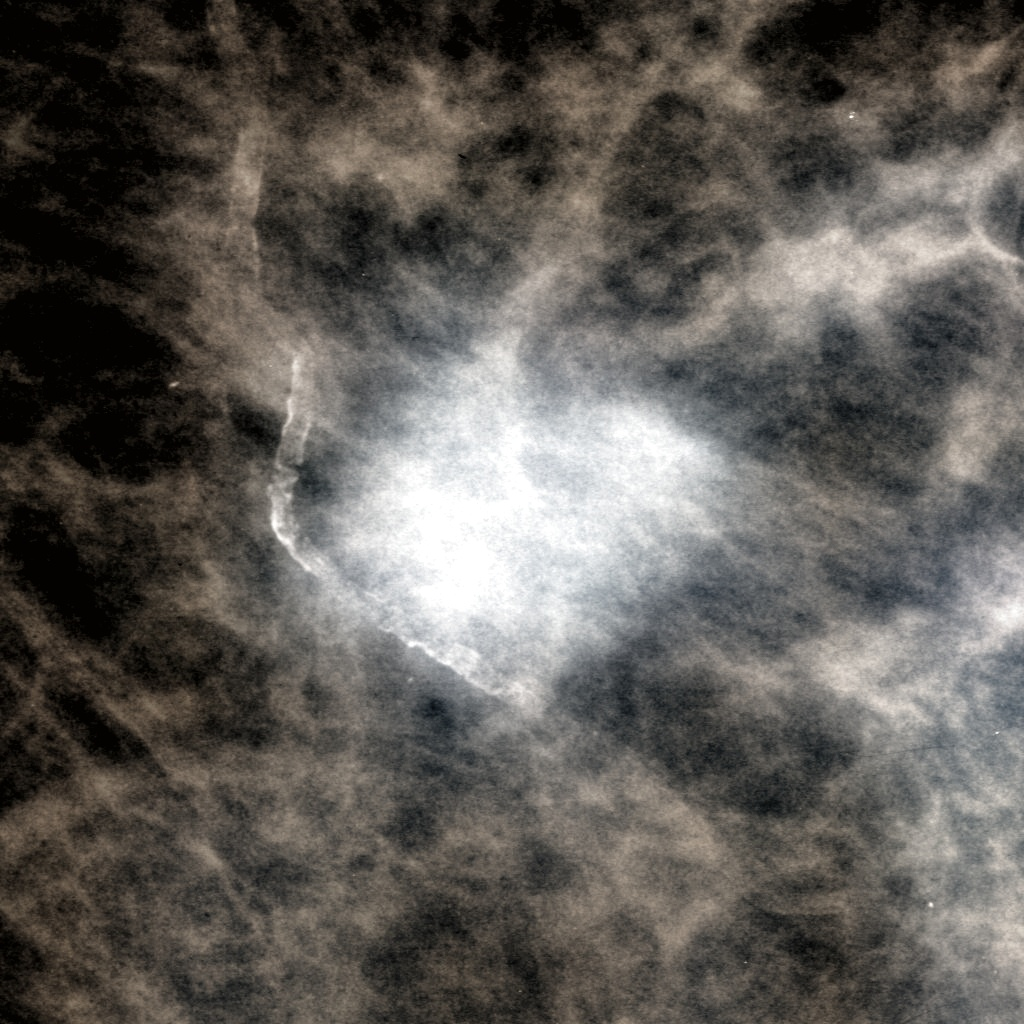tumor: (296, 300, 728, 724)
